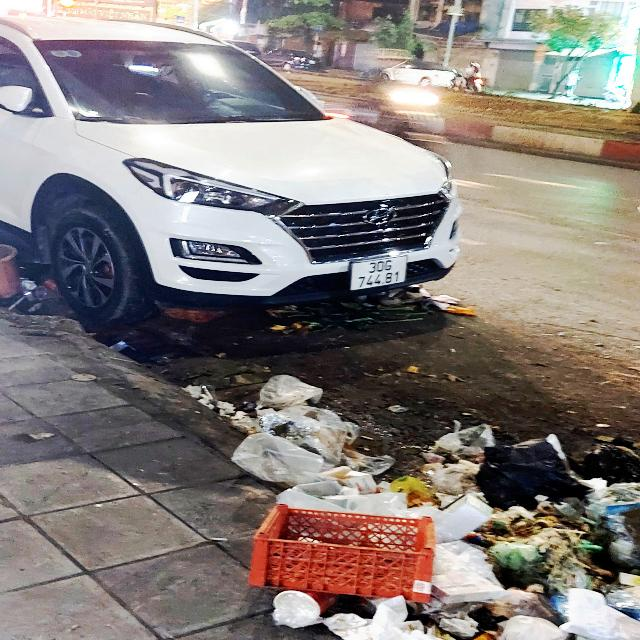license_plate: (351, 256, 408, 291)
